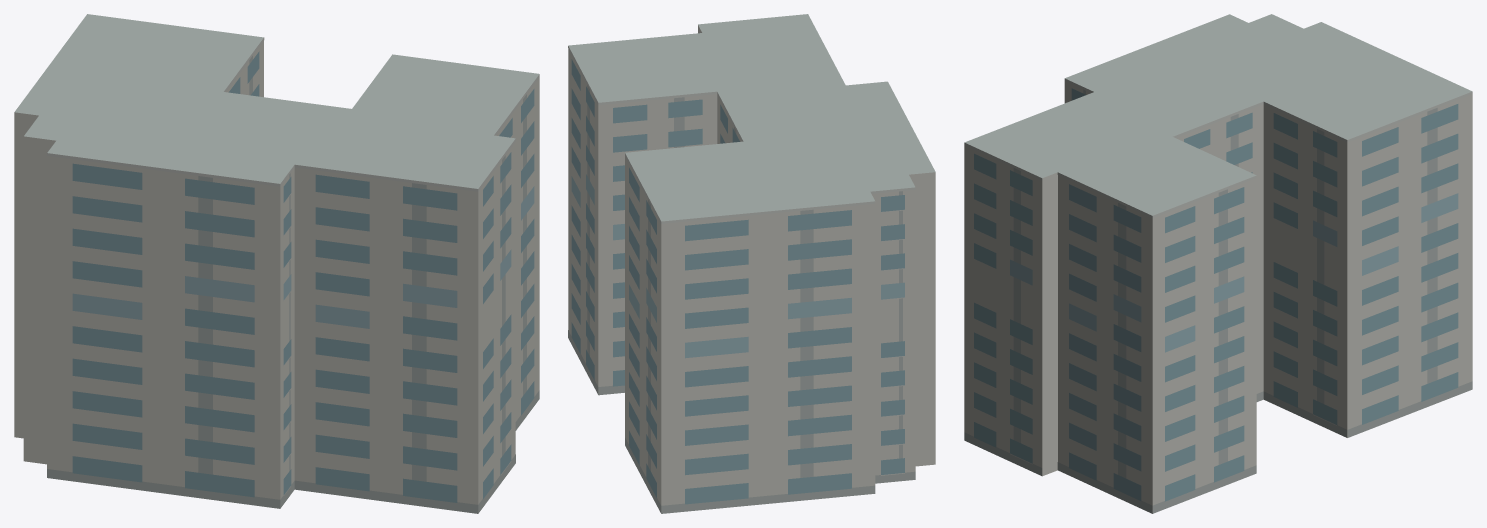
The model's file is residential-b77e5769-1151-4119-928e-701969dbe218.glb.
3 views of the same model, side by side, from view 1: azimuth 30°, elevation 25°; view 2: azimuth 150°, elevation 25°; view 3: azimuth 270°, elevation 25° (orthographic). The views are drawn at different scales.
Parts seen in each view (by area): view 1: residential-b77e5769-1151-4119-928e-701969dbe218.tmp; view 2: residential-b77e5769-1151-4119-928e-701969dbe218.tmp; view 3: residential-b77e5769-1151-4119-928e-701969dbe218.tmp.
Part boxes in pixels (x1=…): residential-b77e5769-1151-4119-928e-701969dbe218.tmp: x1=14, y1=14, x2=539, y2=513; residential-b77e5769-1151-4119-928e-701969dbe218.tmp: x1=568, y1=14, x2=935, y2=513; residential-b77e5769-1151-4119-928e-701969dbe218.tmp: x1=964, y1=14, x2=1472, y2=513.
Bounding box in the file's own units: 40.68 × 28 × 43.28.
